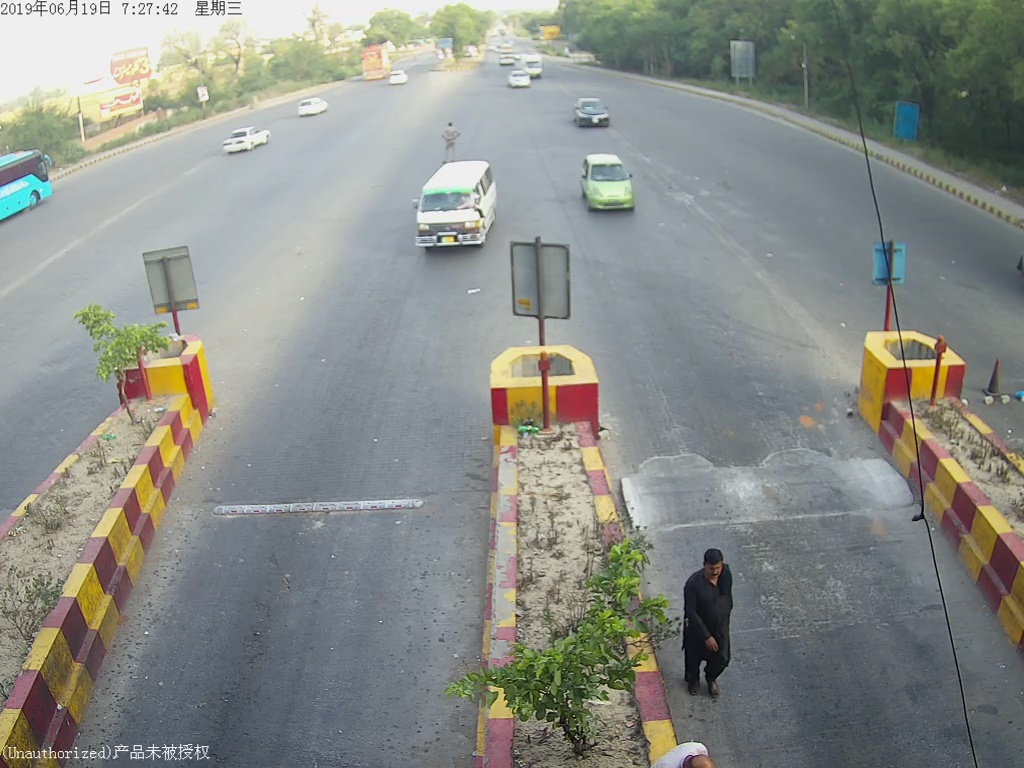Cat-1: (579, 152, 640, 210)
Cat-2: (414, 160, 503, 257)
